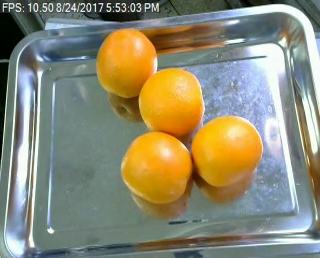Orange: (191, 114, 263, 186), (121, 132, 192, 205), (138, 67, 205, 136), (95, 27, 158, 98)
